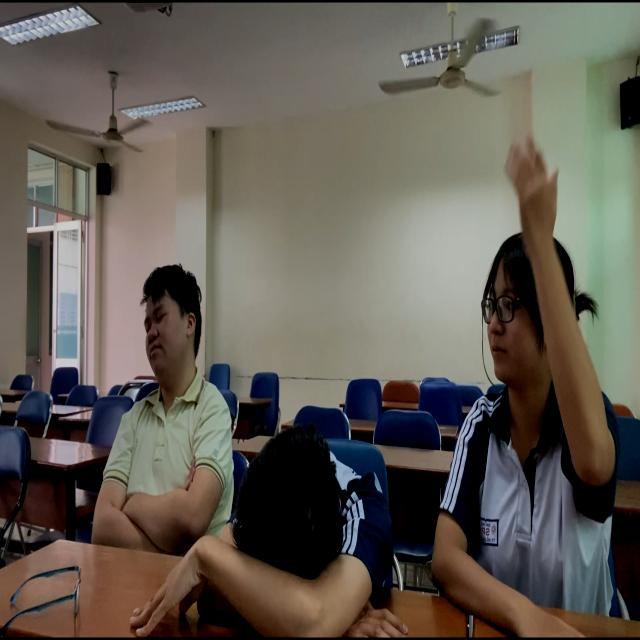raise_hand: (409, 134, 640, 640)
sleep: (194, 427, 402, 640)
